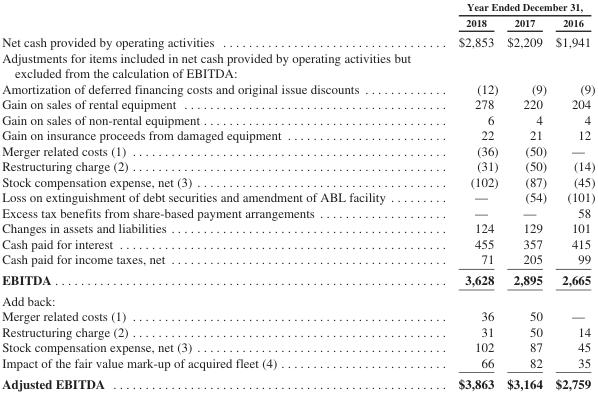table: (1, 0, 594, 390)
table column: (1, 0, 421, 390), (421, 0, 501, 390), (501, 0, 550, 390), (550, 0, 594, 390)
table column header: (1, 0, 594, 31)
table projected row header: (1, 49, 594, 80), (1, 290, 594, 308)
table row: (1, 49, 594, 80), (1, 269, 594, 290), (1, 31, 594, 49), (1, 251, 594, 269), (1, 290, 594, 308), (1, 354, 594, 372), (1, 372, 594, 390), (1, 14, 594, 31), (1, 80, 594, 96), (1, 111, 594, 127), (1, 142, 594, 158), (1, 173, 594, 189), (1, 204, 594, 220), (1, 235, 594, 251), (1, 323, 594, 339), (1, 96, 594, 111), (1, 127, 594, 142), (1, 158, 594, 173), (1, 189, 594, 204), (1, 220, 594, 235), (1, 308, 594, 323), (1, 339, 594, 354), (1, 0, 594, 14)
table spanning cell: (421, 0, 594, 14)
